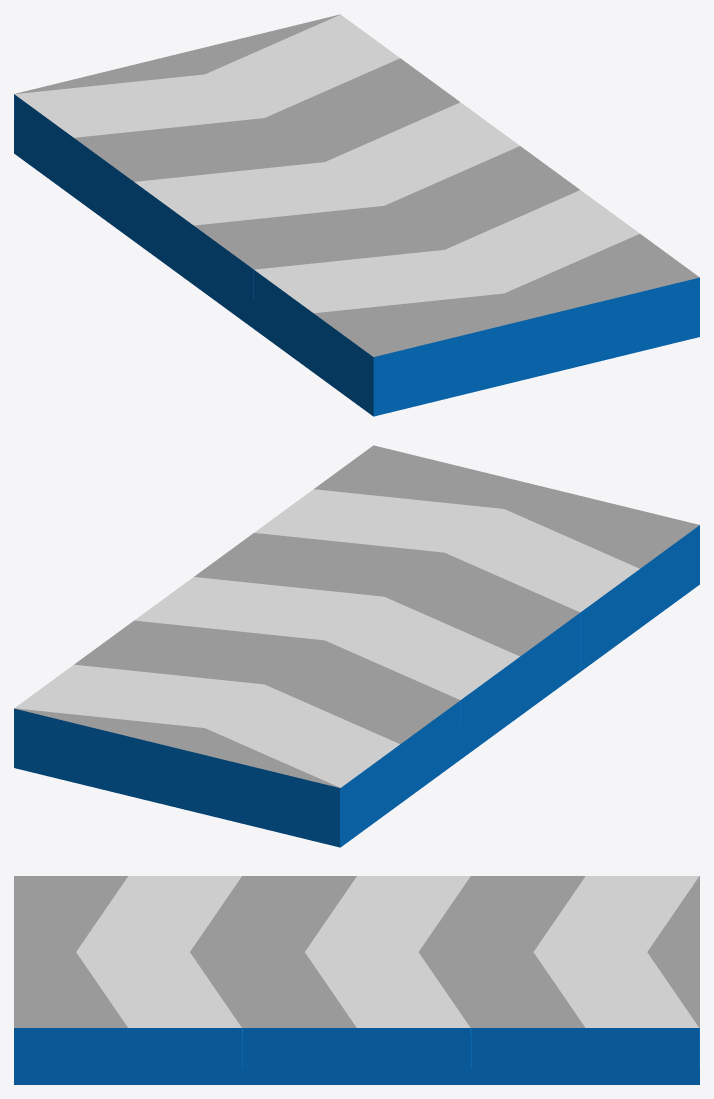
The model's file is duz yol.fbx.
3 renders of one model, top to bottom at view 1: azimuth 30°, elevation 25°; view 2: azimuth 150°, elevation 25°; view 3: azimuth 270°, elevation 25°, orthographic. The views are drawn at different scales.
Visible parts, largest first — view 1: Box055; view 2: Box055; view 3: Box055.
Boxes of the visible parts, x1,y1,x2,y2 form: Box055: (14, 14, 699, 416); Box055: (14, 445, 699, 847); Box055: (14, 876, 699, 1084).
Size of the model in its own units: 224 by 38.92 by 426.
